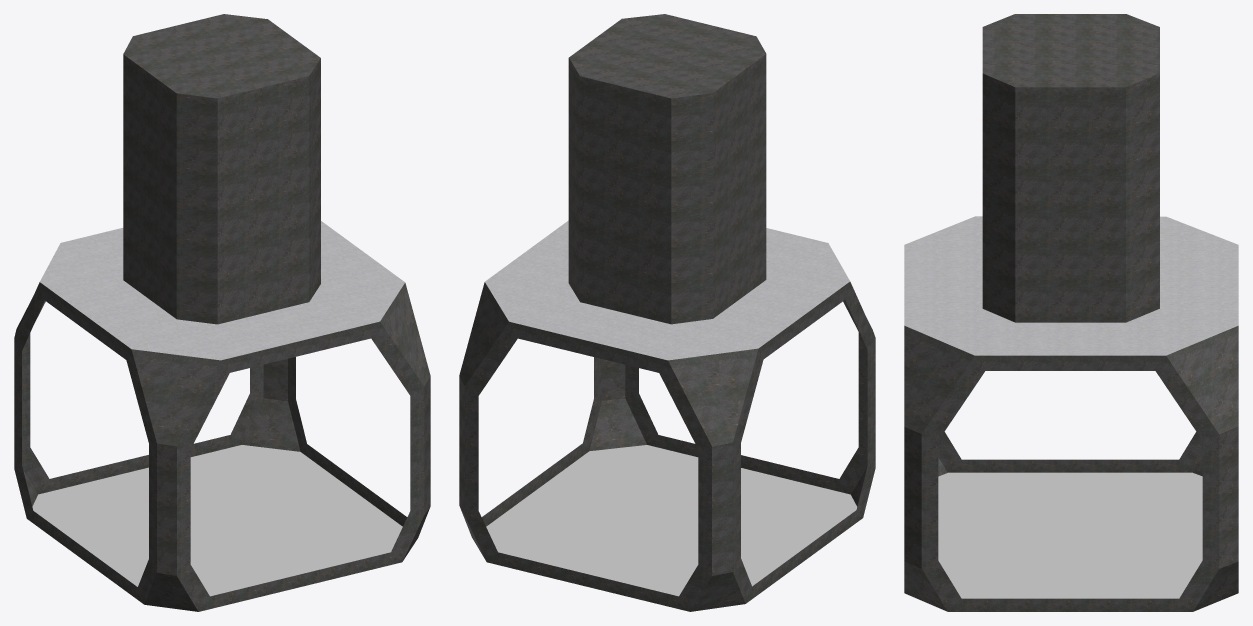
The model's file is starship_cross.FBX.
The picture shows the model from 3 angles, left to right: view 1: azimuth 30°, elevation 25°; view 2: azimuth 150°, elevation 25°; view 3: azimuth 270°, elevation 25°; orthographic projection. The views are drawn at different scales.
Parts seen in each view (by area): view 1: Plane002; view 2: Plane002; view 3: Plane002.
Part boxes in pixels (left/top/right/bottom): Plane002: left=14, top=14, right=430, bottom=611; Plane002: left=459, top=14, right=875, bottom=611; Plane002: left=904, top=14, right=1238, bottom=611.
Bounding box in the file's own units: 4.6 × 7.57 × 4.67.
